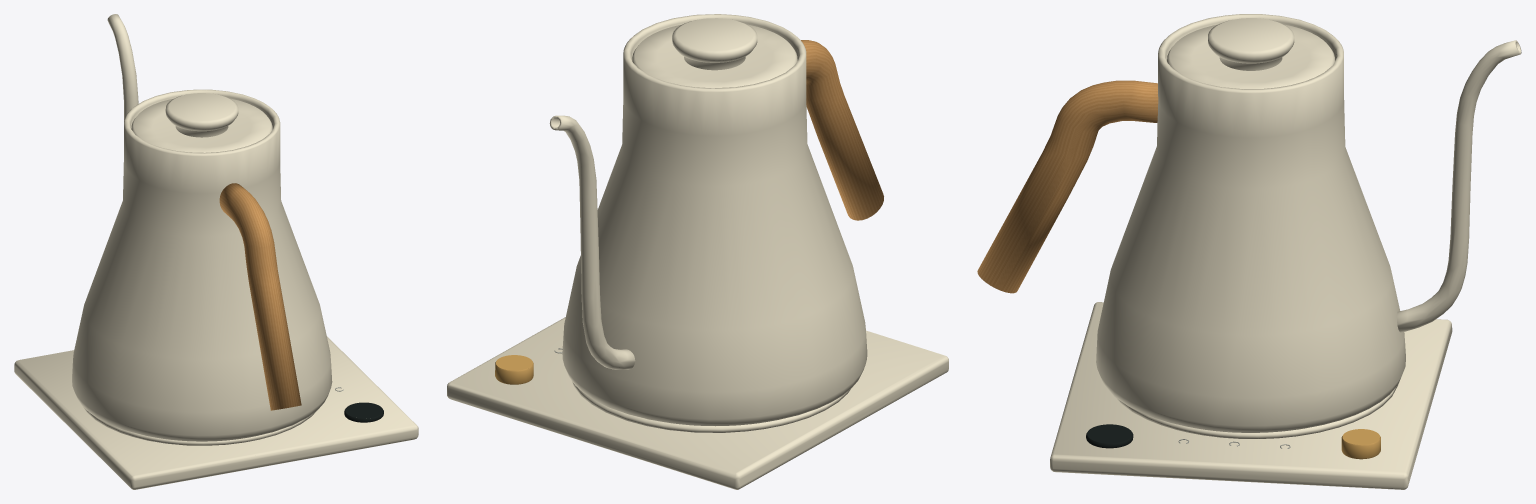
3 views of the same model, side by side, from view 1: azimuth 30°, elevation 25°; view 2: azimuth 150°, elevation 25°; view 3: azimuth 270°, elevation 25° (orthographic). The views are drawn at different scales.
Visible parts, largest first — view 1: kettle_0__kettle, kettle_0__base, kettle_0__lid; view 2: kettle_0__kettle, kettle_0__base, kettle_0__lid; view 3: kettle_0__kettle, kettle_0__base, kettle_0__lid.
Part boxes in pixels (<box>): kettle_0__kettle: <box>72,14,332,441</box>; kettle_0__base: <box>14,336,418,489</box>; kettle_0__lid: <box>131,93,272,152</box>; kettle_0__kettle: <box>549,14,883,426</box>; kettle_0__base: <box>447,317,948,489</box>; kettle_0__lid: <box>632,18,797,88</box>; kettle_0__kettle: <box>977,14,1521,432</box>; kettle_0__base: <box>1050,302,1452,489</box>; kettle_0__lid: <box>1167,18,1334,88</box>.
Size of the model in its own units: 0.198 by 0.1954 by 0.2611.
Materials: 7 (1 with a texture image).
